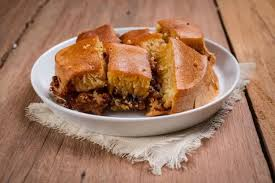Martabak manis: (156, 37, 215, 120), (55, 36, 106, 118), (106, 39, 155, 112)
